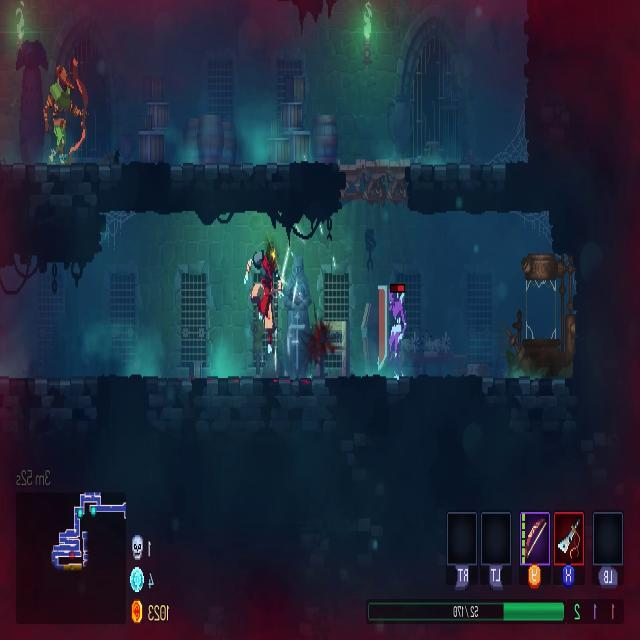agents: (243, 243, 286, 357)
enemy_archer: (42, 68, 86, 165)
enemy_purple_shield: (378, 284, 410, 378)
wood_floor: (337, 157, 409, 211)
